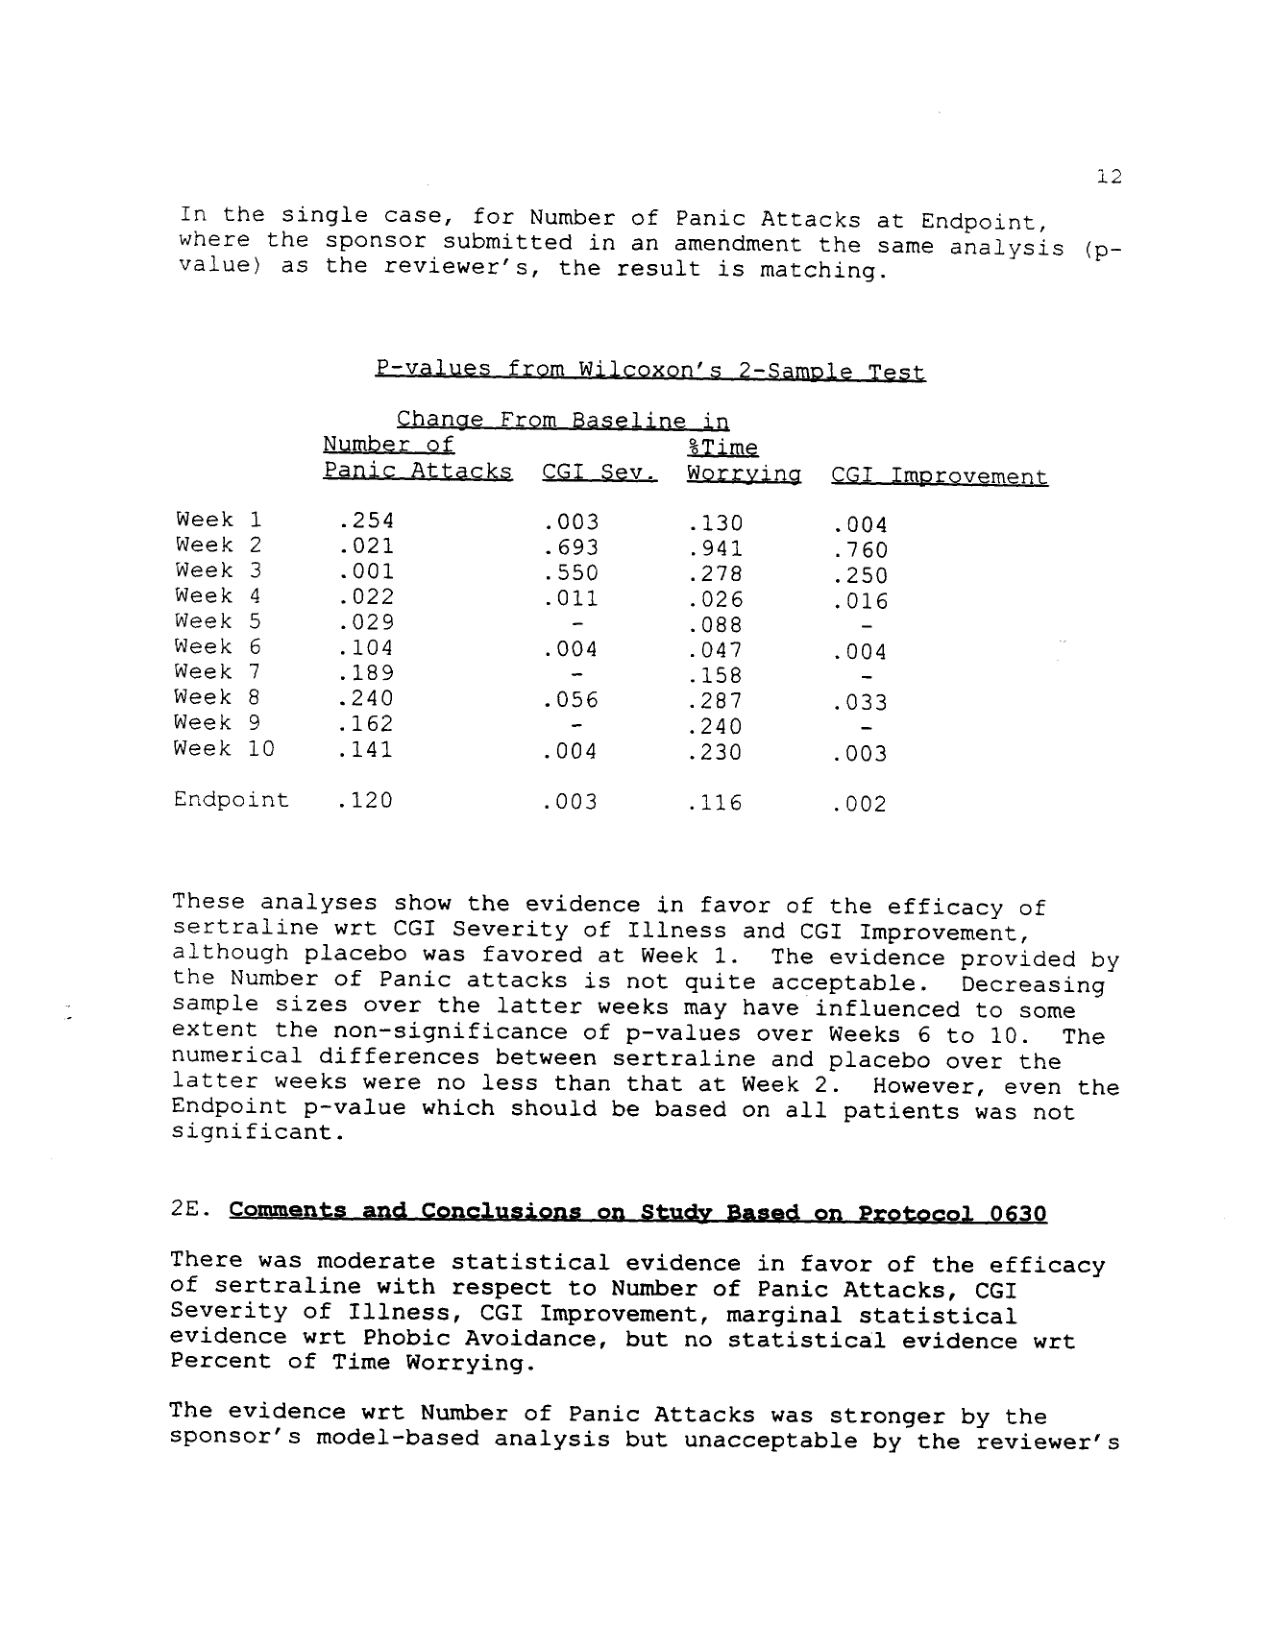nolines: (166, 435, 1055, 815)
